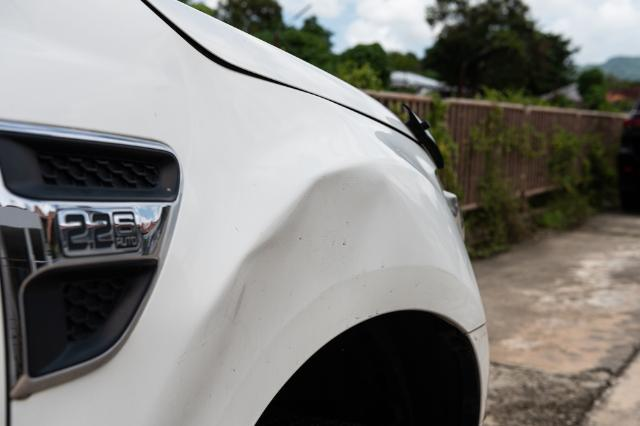dent: (175, 168, 401, 426)
